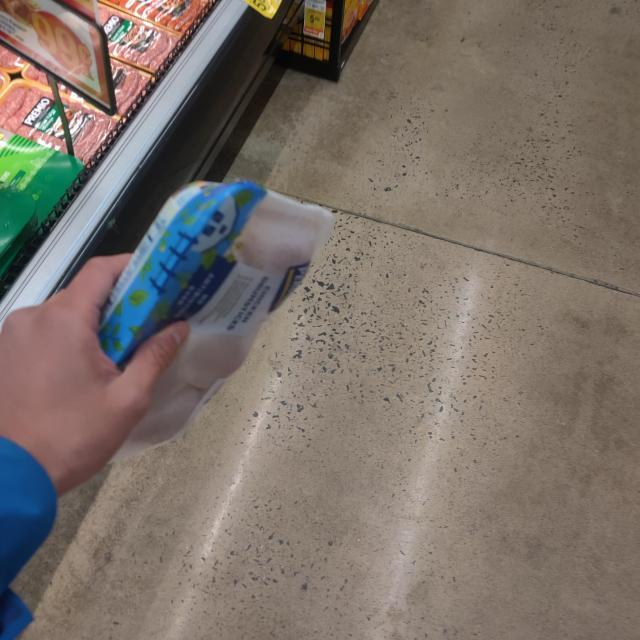Meat: (82, 173, 364, 461)
